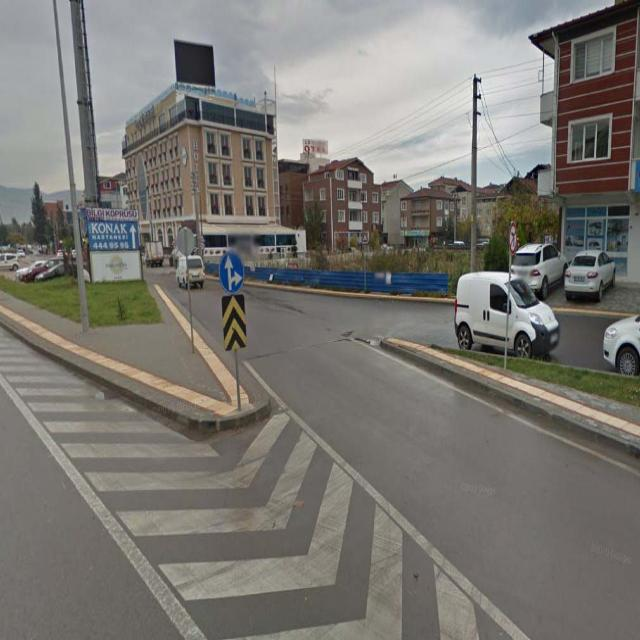ilerisag: (218, 254, 246, 292)
soladonulmez: (508, 221, 516, 255)
